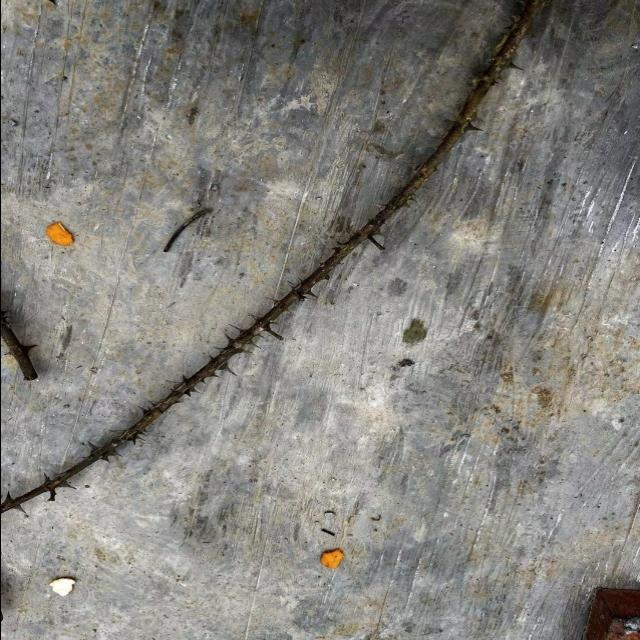branch: (0, 0, 545, 515)
